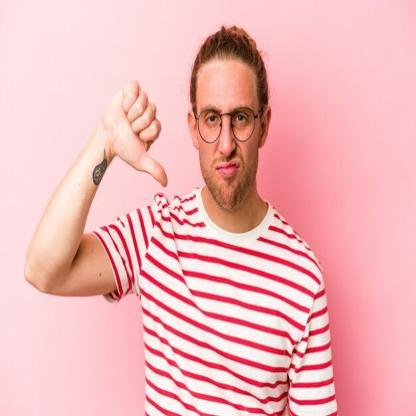thumb_down: (99, 76, 170, 191)
